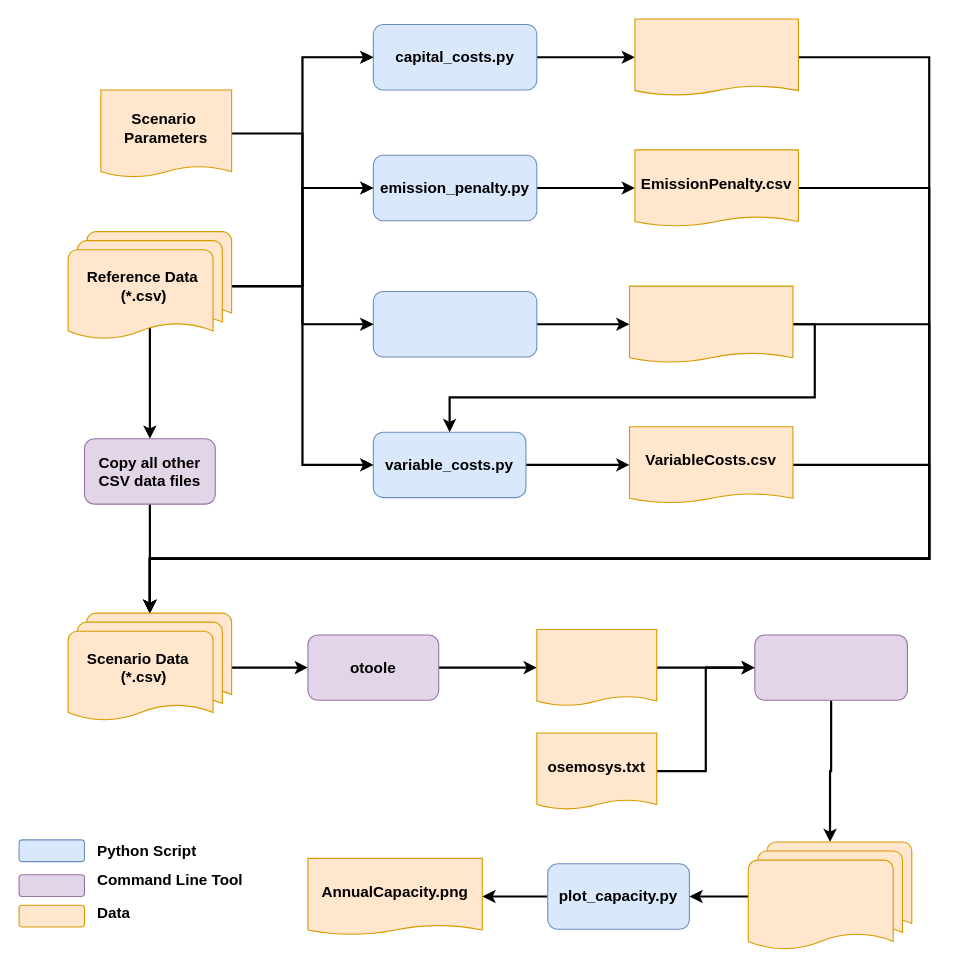
Some shapes in this 958 by 970 pixel diagram are drawn without their labels. The box of each missing label's shape, as (x1, y1, x2, y2) in pixels:
AnnualDemand.csv: (628, 285, 793, 362)
Build and Solve via GLPK: (754, 634, 907, 700)
CapitalCosts.csv: (634, 18, 798, 95)
data.txt: (536, 628, 657, 706)
demand.py: (372, 290, 537, 357)
Result Data (*.csv): (747, 841, 912, 951)
